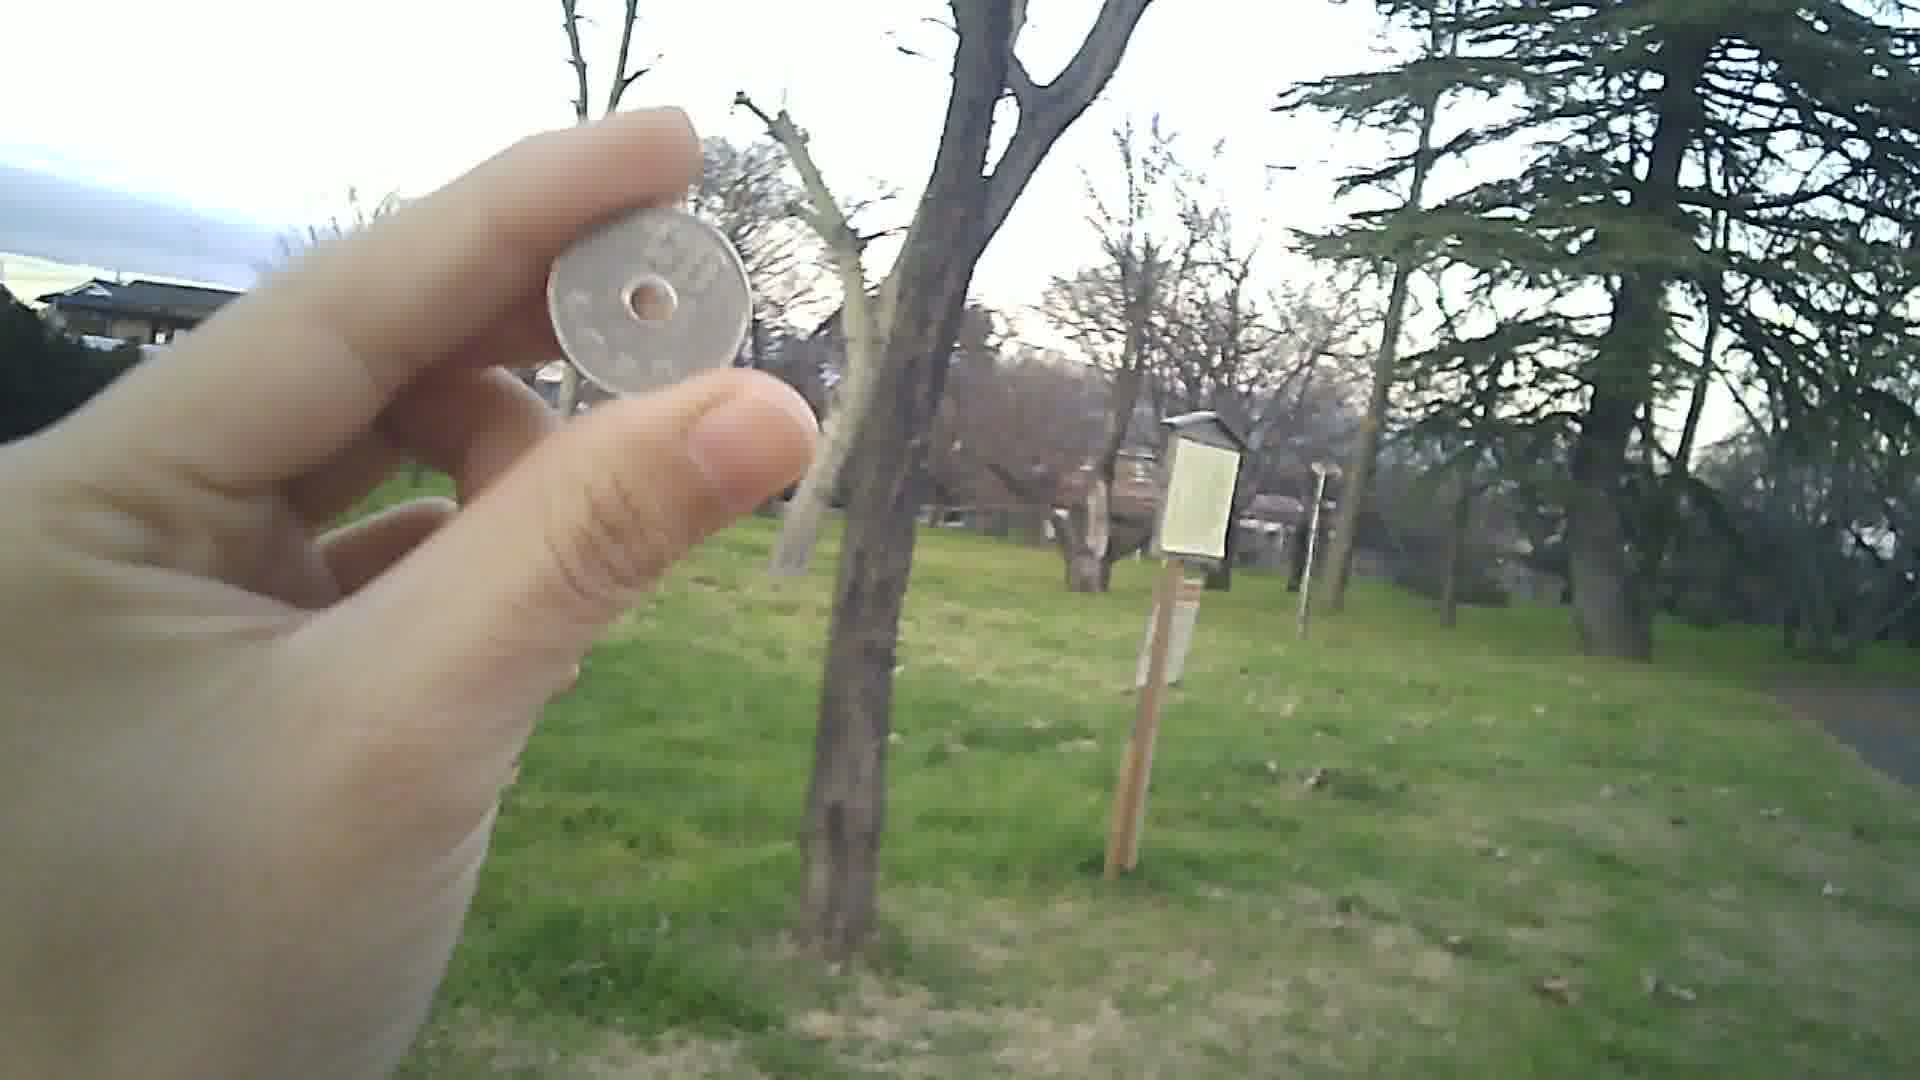50 Yen: (541, 198, 749, 405)
